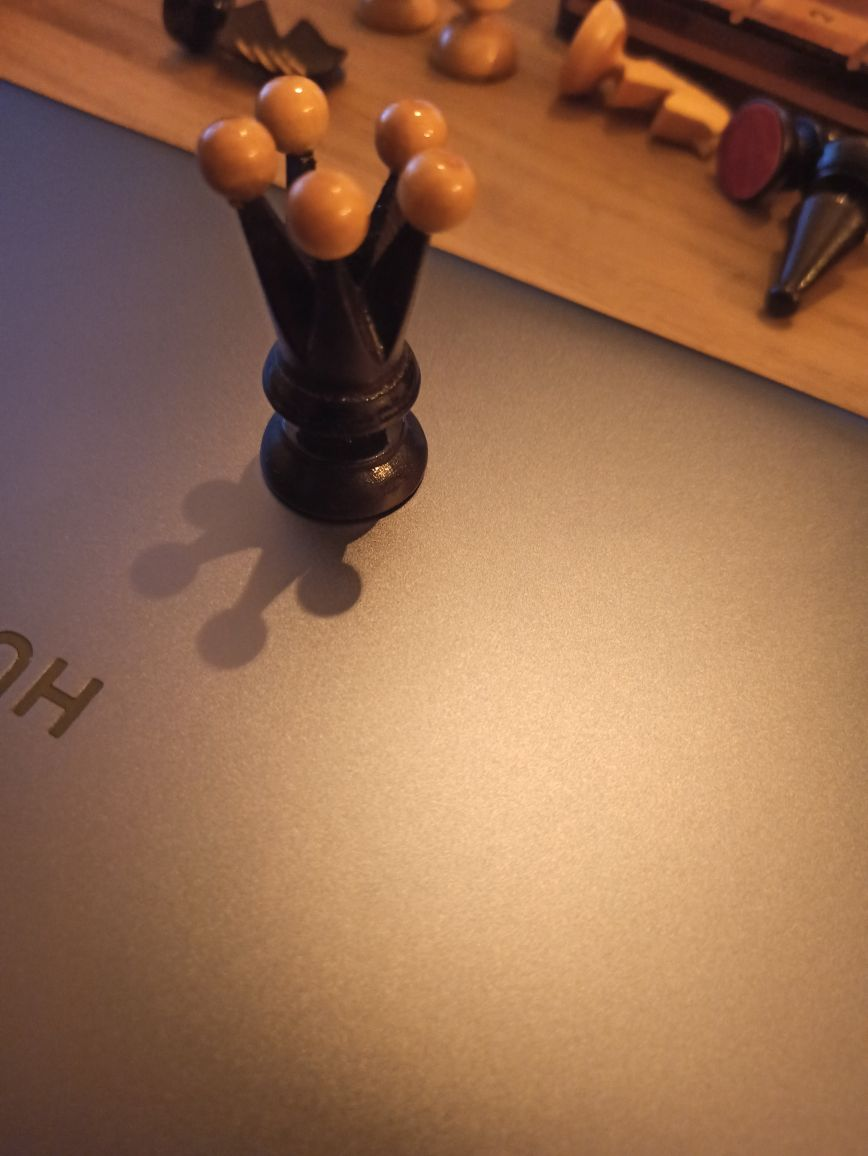bqueen: (199, 75, 476, 523)
